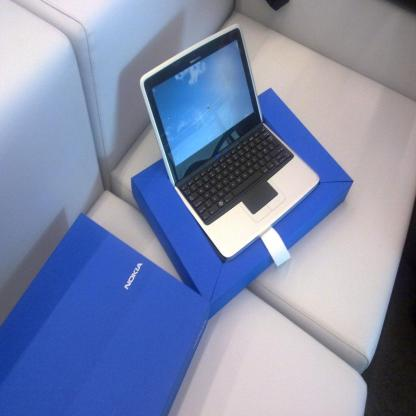board: (143, 30, 308, 246)
